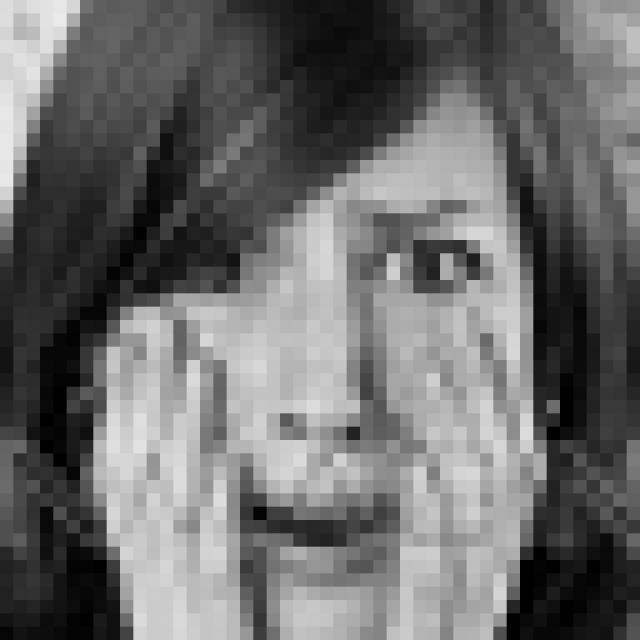fear: (146, 191, 493, 586)
